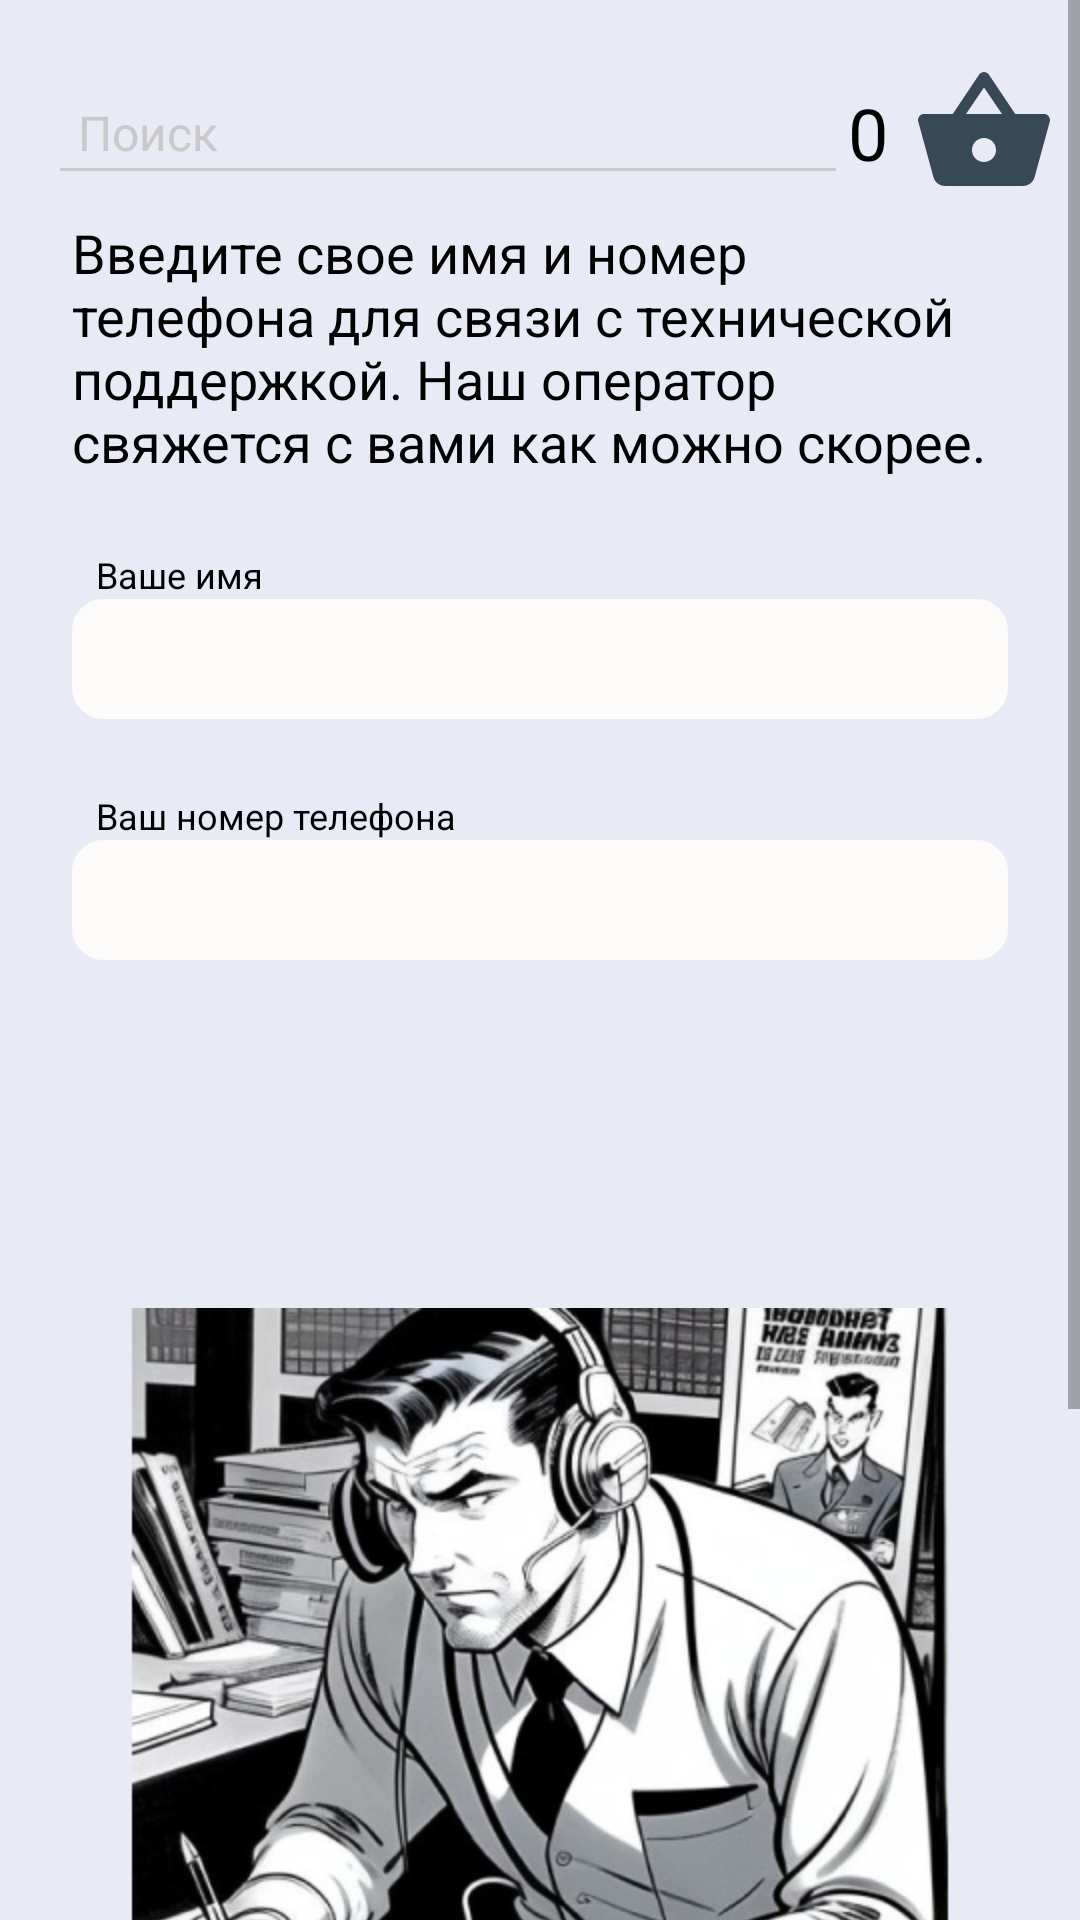

Icon bounding boxes for this 1080 × 1920 phone screenshot, format [x1=x1, y1=y1, x2=x2, y2=y2]:
basket: [x1=918, y1=72, x2=1050, y2=186]
